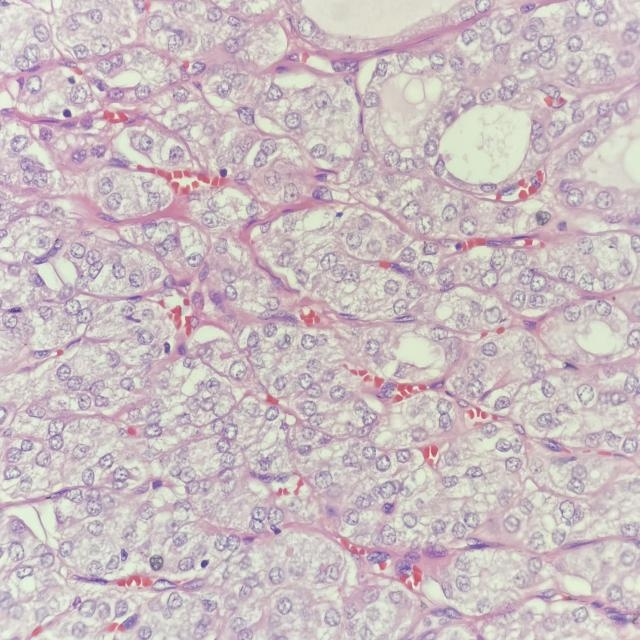TC: (358, 330, 385, 365), (130, 126, 159, 158), (475, 332, 503, 364), (437, 195, 462, 228), (411, 207, 435, 241), (241, 192, 266, 224), (270, 246, 298, 274), (341, 229, 370, 256), (260, 289, 286, 319), (314, 248, 338, 280), (233, 102, 260, 130), (325, 381, 352, 409), (162, 140, 185, 172), (279, 179, 304, 208), (478, 266, 504, 292), (386, 298, 416, 320), (106, 186, 128, 215), (432, 393, 457, 417), (308, 87, 331, 113), (239, 328, 260, 356), (306, 142, 330, 166), (219, 282, 244, 305), (210, 237, 231, 264), (271, 374, 292, 399), (379, 146, 397, 175), (299, 332, 321, 354), (284, 111, 304, 132)
